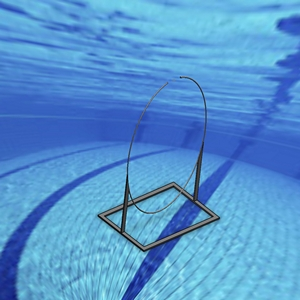circle: (96, 74, 219, 251)
